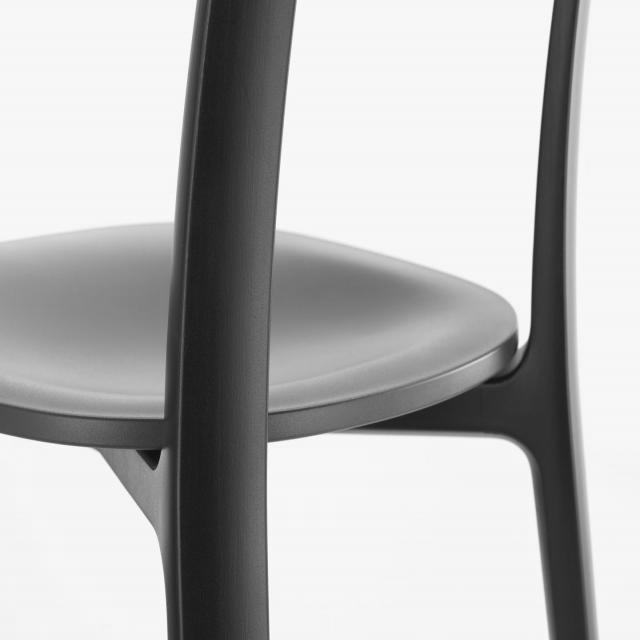chair: (2, 5, 598, 640)
